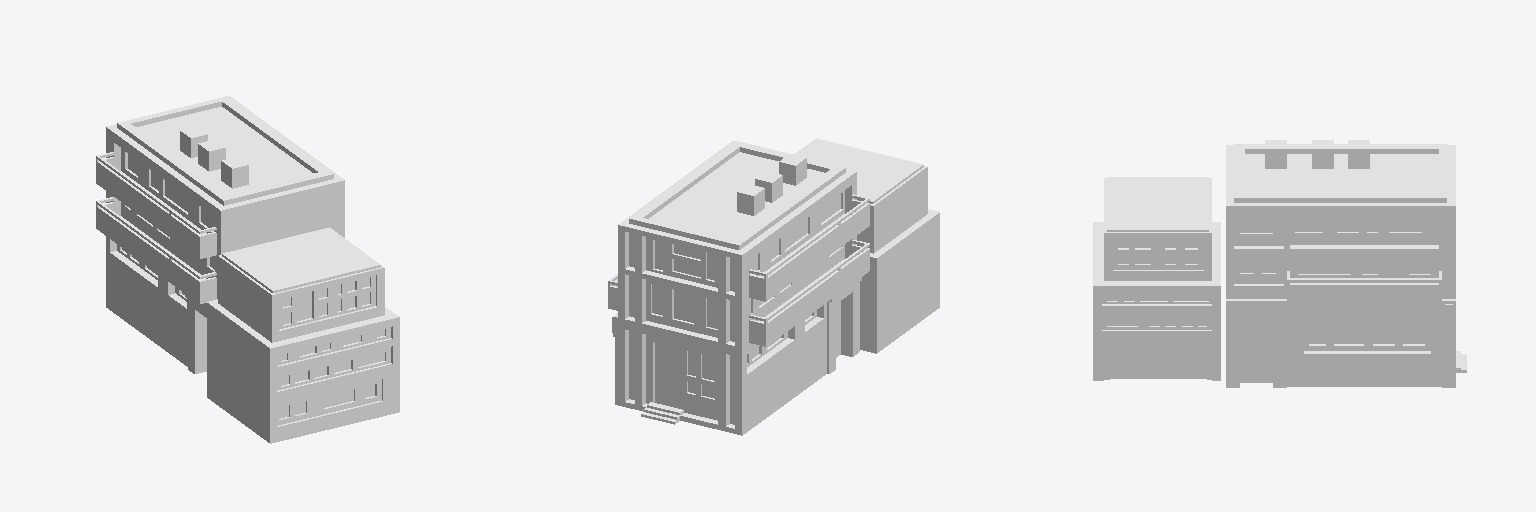
Rendered from SideBuildings2-2.obj.
The picture shows the model from 3 angles: view 1: azimuth 30°, elevation 25°; view 2: azimuth 150°, elevation 25°; view 3: azimuth 270°, elevation 25°; orthographic projection.
Visible parts, largest first — view 1: object 1; view 2: object 1; view 3: object 1.
Boxes of the visible parts, box(x1,y1,x2,y2) form: object 1: box(96, 96, 399, 443); object 1: box(608, 138, 939, 435); object 1: box(1093, 140, 1466, 387).
Bounding box in the file's own units: 6.6 × 8 × 13.5.